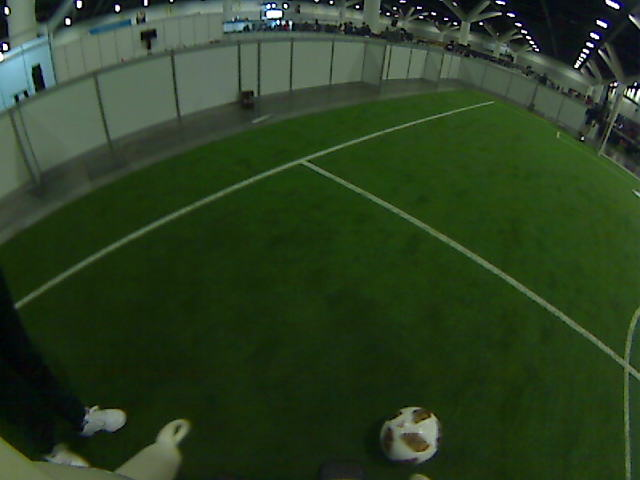ball: (390, 414, 430, 454)
goalpost: (599, 109, 607, 156)
